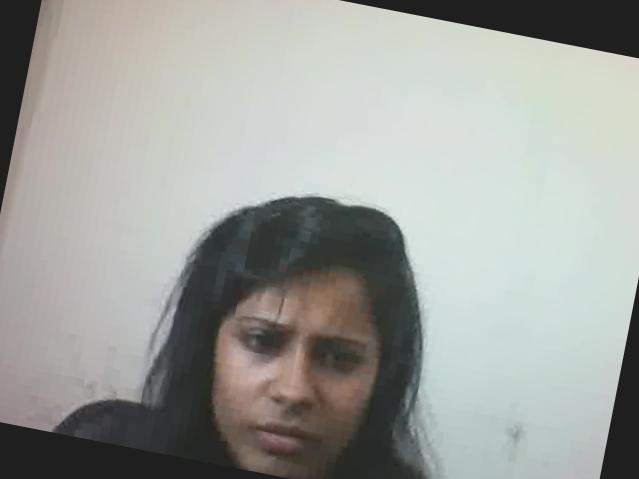bingung: (196, 254, 400, 479)
